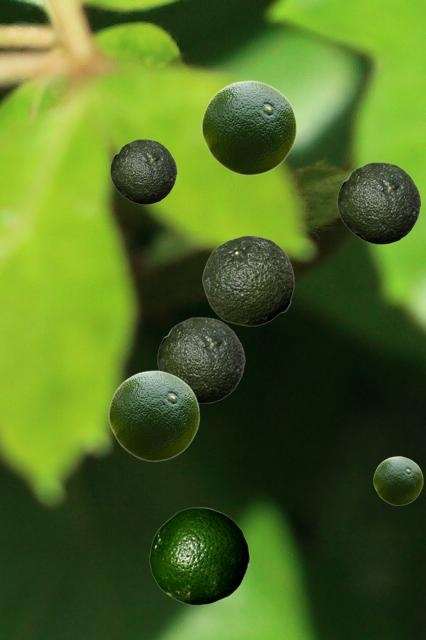calamansi: (149, 507, 249, 604), (201, 80, 296, 174), (202, 235, 293, 325), (108, 370, 199, 460), (157, 317, 244, 402), (337, 162, 420, 243), (110, 139, 176, 203), (373, 456, 422, 504)
